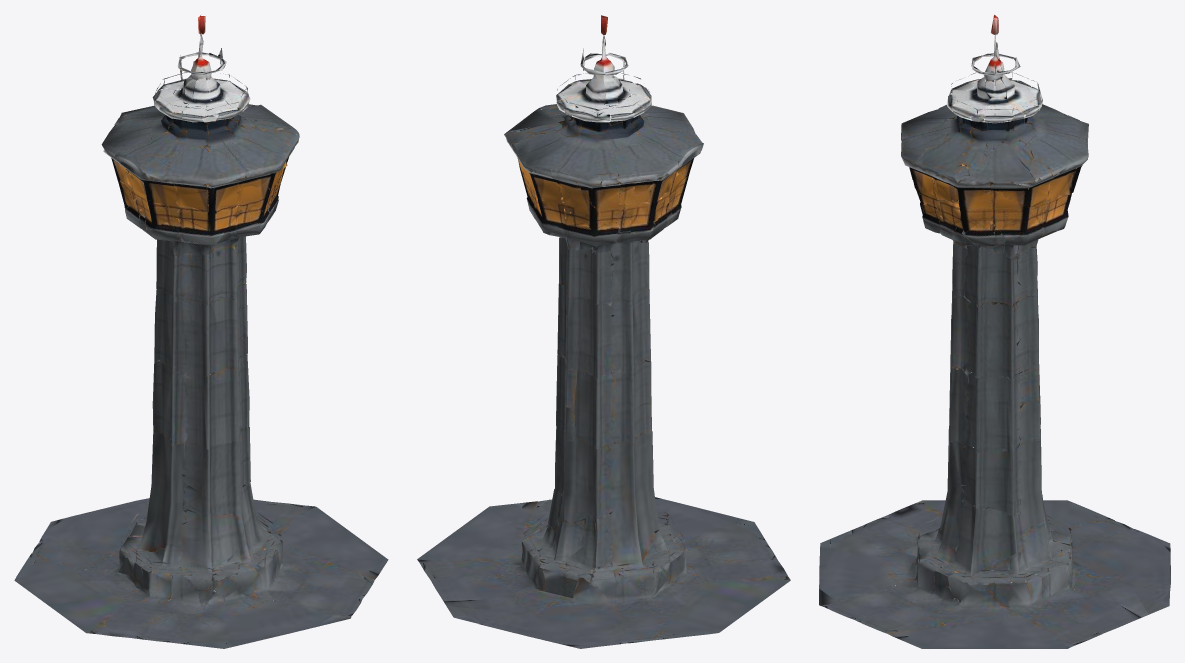
Rendered from co_tower_p.glb.
3 views of the same model, side by side, from view 1: azimuth 30°, elevation 25°; view 2: azimuth 150°, elevation 25°; view 3: azimuth 270°, elevation 25° (orthographic).
Parts seen in each view (by area): view 1: Mesh_0; view 2: Mesh_0; view 3: Mesh_0.
Boxes of the visible parts, bbox=[...] form: Mesh_0: bbox=[14, 15, 388, 648]; Mesh_0: bbox=[417, 15, 790, 648]; Mesh_0: bbox=[819, 15, 1170, 648].
Bounding box in the file's own units: 1.06 × 1.86 × 1.06.
Materials: 1 (1 with a texture image).
